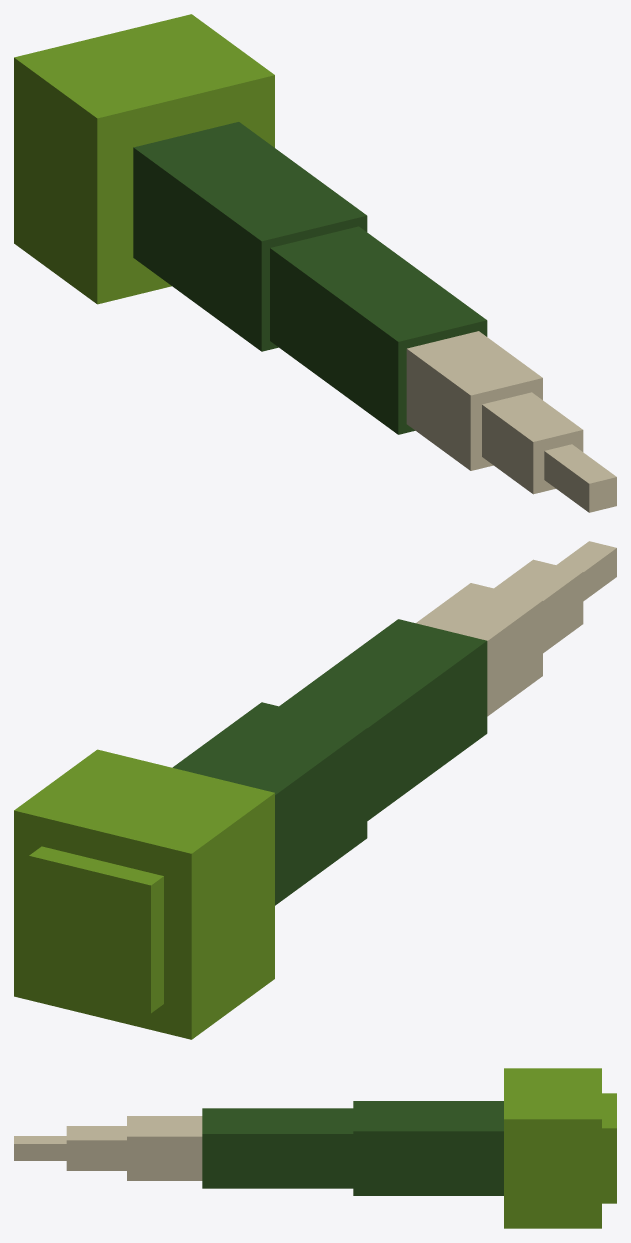
File: fx_pet_thorn_pop.glb
The picture shows the model from 3 angles, top to bottom: view 1: azimuth 30°, elevation 25°; view 2: azimuth 150°, elevation 25°; view 3: azimuth 270°, elevation 25°; orthographic projection. The views are drawn at different scales.
Parts seen in each view (by area): view 1: pet_thorn_pop_Thorn Pop_Mesh1; view 2: pet_thorn_pop_Thorn Pop_Mesh1; view 3: pet_thorn_pop_Thorn Pop_Mesh1.
Boxes of the visible parts, left/top/right/bottom form: pet_thorn_pop_Thorn Pop_Mesh1: left=14, top=14, right=616, bottom=512; pet_thorn_pop_Thorn Pop_Mesh1: left=14, top=541, right=616, bottom=1039; pet_thorn_pop_Thorn Pop_Mesh1: left=14, top=1068, right=616, bottom=1228.
Size of the model in its own units: 0.32 by 0.32 by 1.6.
